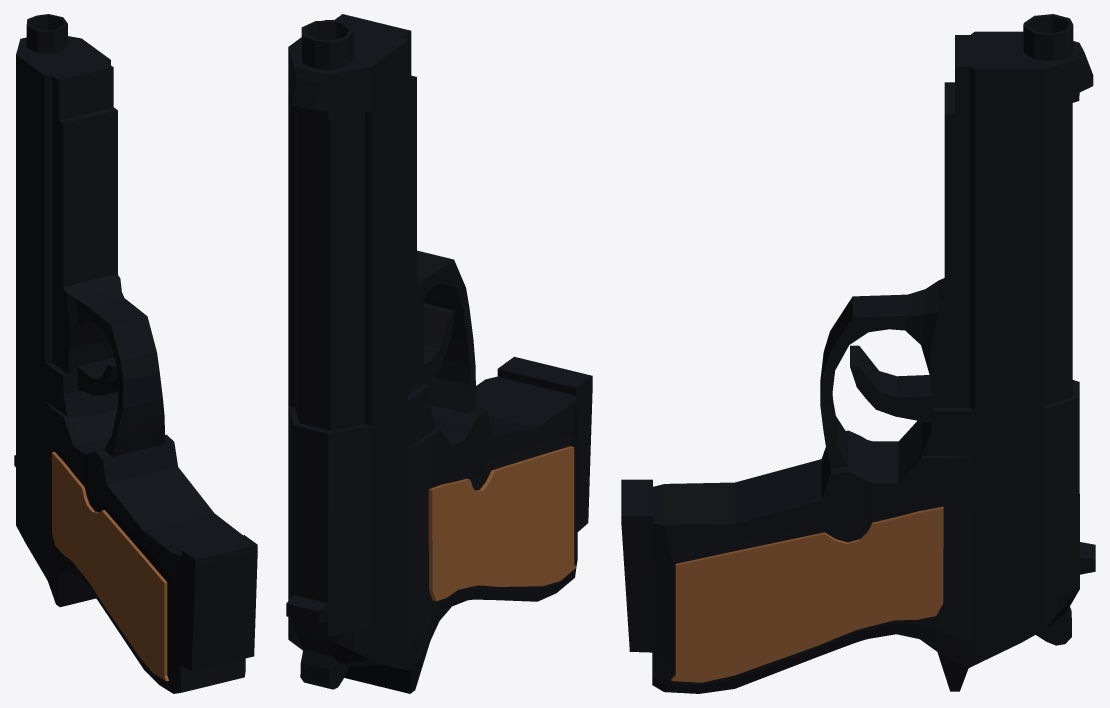
The model's file is beretta92-v2.fbx.
3 renders of one model, left to right at view 1: azimuth 30°, elevation 25°; view 2: azimuth 150°, elevation 25°; view 3: azimuth 270°, elevation 25°, orthographic. The views are drawn at different scales.
Parts seen in each view (by area): view 1: beretta92; view 2: beretta92; view 3: beretta92.
Boxes of the visible parts, left/top/right/bottom form: beretta92: left=14, top=14, right=257, bottom=693; beretta92: left=286, top=14, right=592, bottom=693; beretta92: left=621, top=14, right=1095, bottom=693.
Bounding box in the file's own units: 415 × 2759 × 1822.
1 material, 1 textured.
